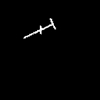double_crochet: (24, 19, 55, 37)
